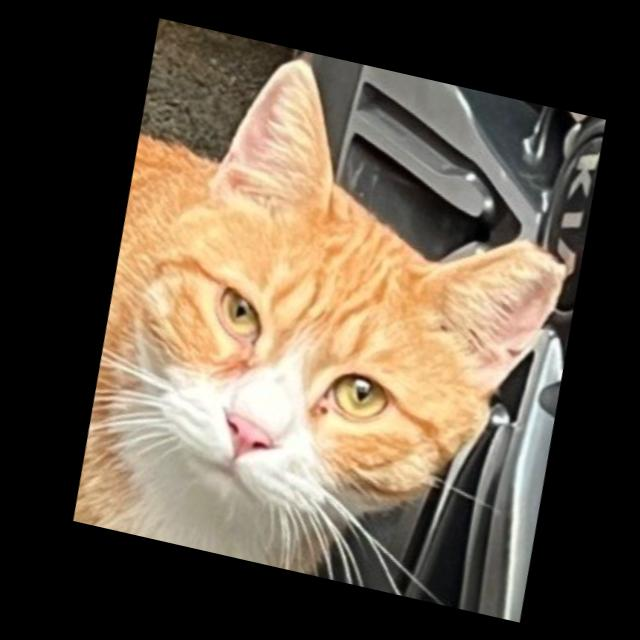animals: (87, 32, 615, 608)
